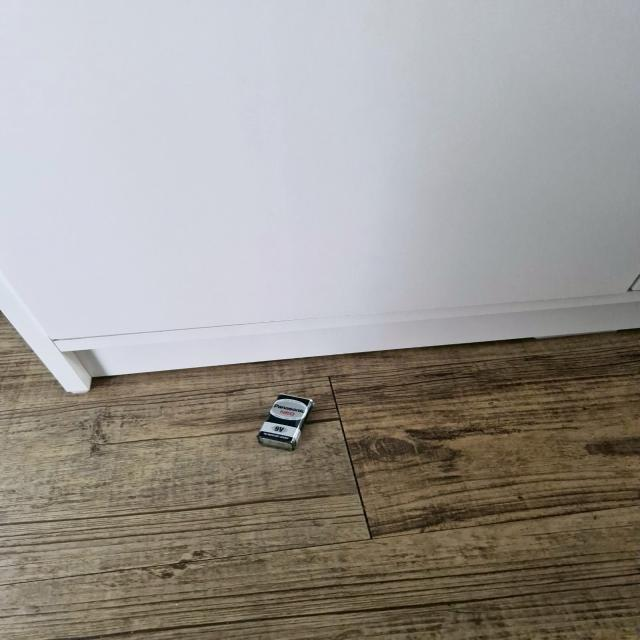battery: (261, 395, 313, 453)
